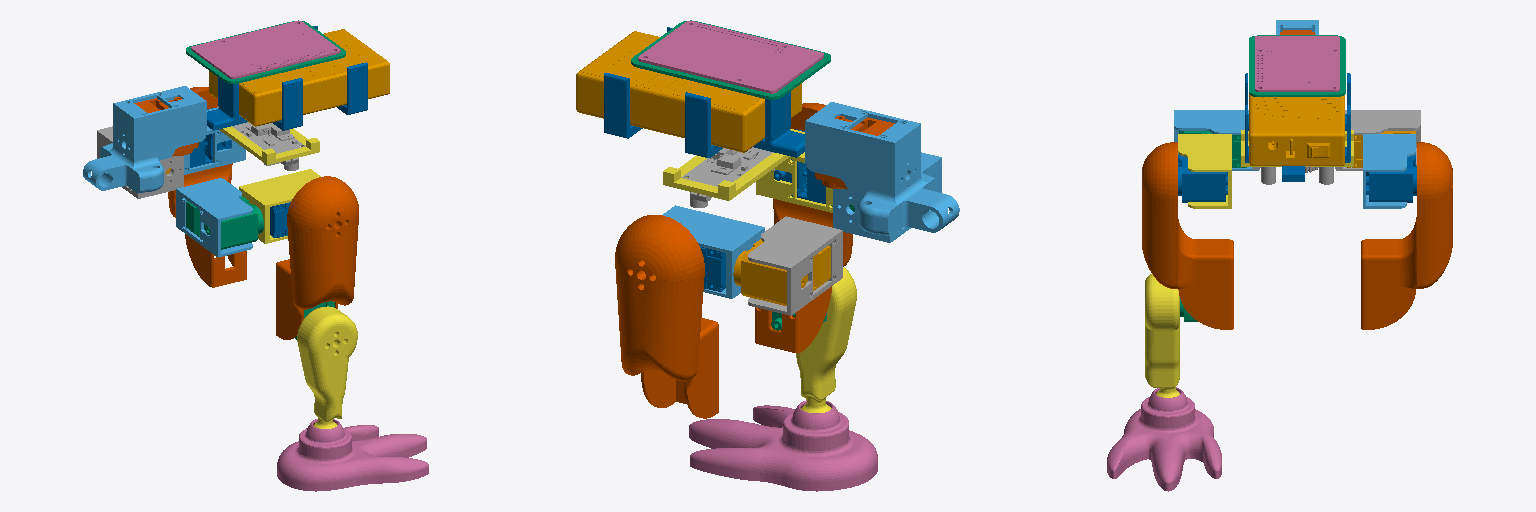
--- Facts derived from the render (not from the file) ---
3 views of the same robot in one strip: view 1: azimuth 30°, elevation 25°; view 2: azimuth 150°, elevation 25°; view 3: azimuth 270°, elevation 25° (orthographic).
Model jake with 25 links and 24 joints (8 continuous, 16 fixed), rooted at base_link, posed all joints at 0.
Links seen in each view (by area): view 1: thigh1, foot1Component181, jake_tail_STEP_v31Tail1Base1, battery_case_v141TalentCell_Battery_v21, calf1Main_Calf1, jake_RpiBoard_Fina_v81Raspberry_Pi_4_Model_B_v31PCB_RPi4ModelB1, battery_case_v141actual_case_lol1, hipmount11, thighMirror1, hipmount21, servo11Motor_w_Flywheel_Attached1, Jake_Power_Coverter_Mount_v41Power_Converter_v11 (+7 smaller); view 2: thighMirror1, foot1Component181, jake_tail_STEP_v31Tail1Base1, battery_case_v141TalentCell_Battery_v21, jake_RpiBoard_Fina_v81Raspberry_Pi_4_Model_B_v31PCB_RPi4ModelB1, battery_case_v141actual_case_lol1, hipmount1Mirror1, thigh1, calf1Main_Calf1, hipmount2Mirror1, servo1Mirror1Motor_w_Flywheel_Attached_21, Jake_Power_Coverter_Mount_v41Power_Converter_v11 (+7 smaller); view 3: thigh1, thighMirror1, foot1Component181, battery_case_v141TalentCell_Battery_v21, jake_RpiBoard_Fina_v81Raspberry_Pi_4_Model_B_v31PCB_RPi4ModelB1, calf1Main_Calf1, hipmount21, hipmount2Mirror1, hipmount1Mirror1, hipmount11, servo2Mirror1Motor_w_Flywheel_Attached_1_21, servo21Motor_w_Flywheel_Attached_11 (+3 smaller).
Boxes of the visible links, x1=… form: thigh1: x1=276, y1=176, x2=358, y2=339; foot1Component181: x1=277, y1=419, x2=428, y2=491; jake_tail_STEP_v31Tail1Base1: x1=83, y1=86, x2=206, y2=192; battery_case_v141TalentCell_Battery_v21: x1=209, y1=29, x2=389, y2=126; calf1Main_Calf1: x1=297, y1=306, x2=357, y2=428; jake_RpiBoard_Fina_v81Raspberry_Pi_4_Model_B_v31PCB_RPi4ModelB1: x1=191, y1=21, x2=340, y2=78; battery_case_v141actual_case_lol1: x1=207, y1=26, x2=367, y2=130; hipmount11: x1=176, y1=178, x2=252, y2=257; thighMirror1: x1=168, y1=87, x2=246, y2=287; hipmount21: x1=239, y1=169, x2=320, y2=243; servo11Motor_w_Flywheel_Attached1: x1=186, y1=196, x2=263, y2=249; Jake_Power_Coverter_Mount_v41Power_Converter_v11: x1=232, y1=122, x2=305, y2=170; thighMirror1: x1=615, y1=215, x2=718, y2=418; foot1Component181: x1=689, y1=400, x2=877, y2=491; jake_tail_STEP_v31Tail1Base1: x1=805, y1=102, x2=959, y2=235; battery_case_v141TalentCell_Battery_v21: x1=576, y1=31, x2=801, y2=152; jake_RpiBoard_Fina_v81Raspberry_Pi_4_Model_B_v31PCB_RPi4ModelB1: x1=638, y1=21, x2=823, y2=93; battery_case_v141actual_case_lol1: x1=604, y1=27, x2=804, y2=157; hipmount1Mirror1: x1=748, y1=216, x2=842, y2=315; thigh1: x1=755, y1=103, x2=852, y2=352; calf1Main_Calf1: x1=796, y1=267, x2=856, y2=412; hipmount2Mirror1: x1=663, y1=205, x2=764, y2=298; servo1Mirror1Motor_w_Flywheel_Attached_21: x1=733, y1=239, x2=830, y2=305; Jake_Power_Coverter_Mount_v41Power_Converter_v11: x1=681, y1=147, x2=774, y2=207; thigh1: x1=1142, y1=142, x2=1233, y2=329; thighMirror1: x1=1361, y1=142, x2=1452, y2=329; foot1Component181: x1=1107, y1=387, x2=1221, y2=491; battery_case_v141TalentCell_Battery_v21: x1=1249, y1=94, x2=1344, y2=165; jake_RpiBoard_Fina_v81Raspberry_Pi_4_Model_B_v31PCB_RPi4ModelB1: x1=1255, y1=36, x2=1339, y2=91; calf1Main_Calf1: x1=1145, y1=274, x2=1179, y2=397; hipmount21: x1=1178, y1=134, x2=1231, y2=208; hipmount2Mirror1: x1=1363, y1=134, x2=1415, y2=208; hipmount1Mirror1: x1=1336, y1=110, x2=1420, y2=170; hipmount11: x1=1174, y1=110, x2=1258, y2=170; servo2Mirror1Motor_w_Flywheel_Attached_1_21: x1=1366, y1=155, x2=1416, y2=202; servo21Motor_w_Flywheel_Attached_11: x1=1178, y1=154, x2=1227, y2=202.
Size in the robot's own frame: 0.2247 by 0.2278 by 0.276 metres.
21 mesh visuals loaded from 25 distinct referenced files (21 binary STL); not drawn: 4 (reference not matched to a file when rendering).

URDF robot description (jake):
<?xml version="1.0" ?>
<robot name="jake">

<material name="silver">
  <color rgba="0.700 0.700 0.700 1.000"/>
</material>

<link name="base_link">
  <inertial>
    <origin xyz="0.07366642744220055 3.4324931540878744e-08 0.07497454082711993" rpy="0 0 0"/>
    <mass value="0.0735175424772156"/>
    <inertia ixx="0.00022715298291462257" iyy="0.00035650467246695875" izz="0.00027330612180046226" ixy="2.139282183341953e-11" iyz="1.4540012846842918e-11" ixz="-0.00010753830886941747"/>
  </inertial>
  <visual>
    <origin xyz="0 0 0" rpy="0 0 0"/>
    <geometry>
      <mesh filename="meshes/base_link.stl" scale="0.001 0.001 0.001"/>
    </geometry>
    <material name="silver"/>
    <material/>
  </visual>
  <collision>
    <origin xyz="0 0 0" rpy="0 0 0"/>
    <geometry>
      <mesh filename="meshes/base_link.stl" scale="0.001 0.001 0.001"/>
    </geometry>
  </collision>
</link>

<link name="hipmount11">
  <inertial>
    <origin xyz="-0.010450877473847946 -0.020598854976074027 -0.006975051044249692" rpy="0 0 0"/>
    <mass value="0.002127030917238079"/>
    <inertia ixx="9.64808475540197e-07" iyy="5.00558554912034e-07" izz="9.430966968339194e-07" ixy="-1.0072694535571229e-07" iyz="4.059700887159884e-14" ixz="2.3205380691548698e-14"/>
  </inertial>
  <visual>
    <origin xyz="-0.02253 0.0254 -0.020945" rpy="0 0 0"/>
    <geometry>
      <mesh filename="meshes/hipmount11.stl" scale="0.001 0.001 0.001"/>
    </geometry>
    <material name="silver"/>
    <material/>
  </visual>
  <collision>
    <origin xyz="-0.02253 0.0254 -0.020945" rpy="0 0 0"/>
    <geometry>
      <mesh filename="meshes/hipmount11.stl" scale="0.001 0.001 0.001"/>
    </geometry>
  </collision>
</link>

<link name="servo11Motor_w_Flywheel_Attached1">
  <inertial>
    <origin xyz="-0.04553647829764142 -0.010497058076662617 -0.0001456577357472847" rpy="0 0 0"/>
    <mass value="0.05200108715490274"/>
    <inertia ixx="1.1411737965950517e-05" iyy="7.3256973563640795e-06" izz="1.3509763471800736e-05" ixy="4.391971279984005e-07" iyz="2.360253048642449e-11" ixz="1.749658177164408e-10"/>
  </inertial>
  <visual>
    <origin xyz="-0.062502 0.044282 -0.014116" rpy="0 0 0"/>
    <geometry>
      <mesh filename="meshes/servo11Motor_w_Flywheel_Attached1.stl" scale="0.001 0.001 0.001"/>
    </geometry>
    <material name="silver"/>
    <material/>
  </visual>
  <collision>
    <origin xyz="-0.062502 0.044282 -0.014116" rpy="0 0 0"/>
    <geometry>
      <mesh filename="meshes/servo11Motor_w_Flywheel_Attached1.stl" scale="0.001 0.001 0.001"/>
    </geometry>
  </collision>
</link>

<link name="hipmount21">
  <inertial>
    <origin xyz="0.020598863547502767 0.010451077473885108 1.0436543625841344e-09" rpy="0 0 0"/>
    <mass value="0.002127030917238079"/>
    <inertia ixx="5.005585549120615e-07" iyy="9.648084755402003e-07" izz="9.430966968339211e-07" ixy="-1.0072694535572203e-07" iyz="2.3205377726933383e-14" ixz="4.0597003154126446e-14"/>
  </inertial>
  <visual>
    <origin xyz="-0.035628 0.067677 -0.01397" rpy="0 0 0"/>
    <geometry>
      <mesh filename="meshes/hipmount21.stl" scale="0.001 0.001 0.001"/>
    </geometry>
    <material name="silver"/>
    <material/>
  </visual>
  <collision>
    <origin xyz="-0.035628 0.067677 -0.01397" rpy="0 0 0"/>
    <geometry>
      <mesh filename="meshes/hipmount21.stl" scale="0.001 0.001 0.001"/>
    </geometry>
  </collision>
</link>

<link name="servo21Motor_w_Flywheel_Attached_11">
  <inertial>
    <origin xyz="-0.012448933351908775 0.07796467829767864 0.0001456077351519574" rpy="0 0 0"/>
    <mass value="0.05200108715490274"/>
    <inertia ixx="7.325697356363954e-06" iyy="1.1411737965950599e-05" izz="1.3509763471800844e-05" ixy="4.3919712799833275e-07" iyz="1.7496581771305267e-10" ixz="2.3602530493200755e-11"/>
  </inertial>
  <visual>
    <origin xyz="-0.077456 0.140077 -0.013824" rpy="0 0 0"/>
    <geometry>
      <mesh filename="meshes/servo21Motor_w_Flywheel_Attached_11.stl" scale="0.001 0.001 0.001"/>
    </geometry>
    <material name="silver"/>
    <material/>
  </visual>
  <collision>
    <origin xyz="-0.077456 0.140077 -0.013824" rpy="0 0 0"/>
    <geometry>
      <mesh filename="meshes/servo21Motor_w_Flywheel_Attached_11.stl" scale="0.001 0.001 0.001"/>
    </geometry>
  </collision>
</link>

<link name="thigh1">
  <inertial>
    <origin xyz="0.0002239642103345485 -0.0039656170424636344 -0.02706053963576697" rpy="0 0 0"/>
    <mass value="0.015624350984100959"/>
    <inertia ixx="1.3839764164106519e-05" iyy="1.3943498199421182e-05" izz="4.5169682811754634e-06" ixy="-1.2569470561092514e-09" iyz="2.448121333010221e-06" ixz="1.1273443839689718e-07"/>
  </inertial>
  <visual>
    <origin xyz="-0.077905 0.080775 -0.01397" rpy="0 0 0"/>
    <geometry>
      <mesh filename="meshes/thigh1.stl" scale="0.001 0.001 0.001"/>
    </geometry>
    <material name="silver"/>
    <material/>
  </visual>
  <collision>
    <origin xyz="-0.077905 0.080775 -0.01397" rpy="0 0 0"/>
    <geometry>
      <mesh filename="meshes/thigh1.stl" scale="0.001 0.001 0.001"/>
    </geometry>
  </collision>
</link>

<link name="foot1Component181">
  <inertial>
    <origin xyz="0.011361275457841463 -0.0004856821062526051 -0.01795697983808972" rpy="0 0 0"/>
    <mass value="0.013961224525381573"/>
    <inertia ixx="4.510420510224239e-06" iyy="8.317584753180212e-06" izz="1.1637670568507565e-05" ixy="2.2788007857949411e-07" iyz="-1.5594201783255537e-08" ixz="4.293290906789483e-07"/>
  </inertial>
  <visual>
    <origin xyz="-0.078151 0.08501 0.148034" rpy="0 0 0"/>
    <geometry>
      <mesh filename="meshes/foot1Component181.stl" scale="0.001 0.001 0.001"/>
    </geometry>
    <material name="silver"/>
    <material/>
  </visual>
  <collision>
    <origin xyz="-0.078151 0.08501 0.148034" rpy="0 0 0"/>
    <geometry>
      <mesh filename="meshes/foot1Component181.stl" scale="0.001 0.001 0.001"/>
    </geometry>
  </collision>
</link>

<link name="hipmount1Mirror1">
  <inertial>
    <origin xyz="-0.010450877473847943 0.020598854976073833 -0.006975051044249675" rpy="0 0 0"/>
    <mass value="0.002127030917238081"/>
    <inertia ixx="9.648084755402063e-07" iyy="5.005585549116387e-07" izz="9.430966968335501e-07" ixy="1.0072694535571822e-07" iyz="-4.0597008659840604e-14" ixz="2.320537719753779e-14"/>
  </inertial>
  <visual>
    <origin xyz="-0.02253 -0.0254 -0.020945" rpy="0 0 0"/>
    <geometry>
      <mesh filename="meshes/hipmount1Mirror1.stl" scale="0.001 0.001 0.001"/>
    </geometry>
    <material name="silver"/>
    <material/>
  </visual>
  <collision>
    <origin xyz="-0.02253 -0.0254 -0.020945" rpy="0 0 0"/>
    <geometry>
      <mesh filename="meshes/hipmount1Mirror1.stl" scale="0.001 0.001 0.001"/>
    </geometry>
  </collision>
</link>

<link name="servo1Mirror1Motor_w_Flywheel_Attached_21">
  <inertial>
    <origin xyz="0.013263521702359112 0.010497058076662569 -0.02808565773574729" rpy="0 0 0"/>
    <mass value="0.05200108715490543"/>
    <inertia ixx="1.1411737965951954e-05" iyy="7.325697356364784e-06" izz="1.3509763471802172e-05" ixy="-4.391971279984073e-07" iyz="-2.3602530493200755e-11" ixz="1.7496581775032212e-10"/>
  </inertial>
  <visual>
    <origin xyz="-0.003702 -0.044282 -0.042056" rpy="0 0 0"/>
    <geometry>
      <mesh filename="meshes/servo1Mirror1Motor_w_Flywheel_Attached_21.stl" scale="0.001 0.001 0.001"/>
    </geometry>
    <material name="silver"/>
    <material/>
  </visual>
  <collision>
    <origin xyz="-0.003702 -0.044282 -0.042056" rpy="0 0 0"/>
    <geometry>
      <mesh filename="meshes/servo1Mirror1Motor_w_Flywheel_Attached_21.stl" scale="0.001 0.001 0.001"/>
    </geometry>
  </collision>
</link>

<link name="hipmount2Mirror1">
  <inertial>
    <origin xyz="0.020598863547502608 -0.01045107747388515 1.0436543591146874e-09" rpy="0 0 0"/>
    <mass value="0.002127030917238081"/>
    <inertia ixx="5.005585549116659e-07" iyy="9.648084755402291e-07" izz="9.430966968335298e-07" ixy="1.0072694535572966e-07" iyz="-2.320537857396633e-14" ixz="4.059700018951113e-14"/>
  </inertial>
  <visual>
    <origin xyz="-0.035628 -0.067677 -0.01397" rpy="0 0 0"/>
    <geometry>
      <mesh filename="meshes/hipmount2Mirror1.stl" scale="0.001 0.001 0.001"/>
    </geometry>
    <material name="silver"/>
    <material/>
  </visual>
  <collision>
    <origin xyz="-0.035628 -0.067677 -0.01397" rpy="0 0 0"/>
    <geometry>
      <mesh filename="meshes/hipmount2Mirror1.stl" scale="0.001 0.001 0.001"/>
    </geometry>
  </collision>
</link>

<link name="servo31Motor_w_Flywheel_Attached_1_11">
  <inertial>
    <origin xyz="0.06100154298729926 -0.018782200273749973 0.0027089283078350623" rpy="0 0 0"/>
    <mass value="0.05200108715490274"/>
    <inertia ixx="1.3509763471800682e-05" iyy="1.1411737965950517e-05" izz="7.3256973563640354e-06" ixy="1.7496581765884256e-10" iyz="-4.3919712799841406e-07" ixz="-2.3602530628726026e-11"/>
  </inertial>
  <visual>
    <origin xyz="-0.017036 0.04237 0.064068" rpy="0 0 0"/>
    <geometry>
      <mesh filename="meshes/servo31Motor_w_Flywheel_Attached_1_11.stl" scale="0.001 0.001 0.001"/>
    </geometry>
    <material name="silver"/>
    <material/>
  </visual>
  <collision>
    <origin xyz="-0.017036 0.04237 0.064068" rpy="0 0 0"/>
    <geometry>
      <mesh filename="meshes/servo31Motor_w_Flywheel_Attached_1_11.stl" scale="0.001 0.001 0.001"/>
    </geometry>
  </collision>
</link>

<link name="calf1Main_Calf1">
  <inertial>
    <origin xyz="-0.00044887238441694566 -0.008451510113759872 -0.02178833109571708" rpy="0 0 0"/>
    <mass value="0.008433806361749868"/>
    <inertia ixx="6.334466357061025e-06" iyy="6.565083135876671e-06" izz="8.797591897749866e-07" ixy="-2.1715990777658326e-09" iyz="2.1916108904953548e-07" ixz="2.5548867809316615e-08"/>
  </inertial>
  <visual>
    <origin xyz="-0.078038 0.079815 0.074257" rpy="0 0 0"/>
    <geometry>
      <mesh filename="meshes/calf1Main_Calf1.stl" scale="0.001 0.001 0.001"/>
    </geometry>
    <material name="silver"/>
    <material/>
  </visual>
  <collision>
    <origin xyz="-0.078038 0.079815 0.074257" rpy="0 0 0"/>
    <geometry>
      <mesh filename="meshes/calf1Main_Calf1.stl" scale="0.001 0.001 0.001"/>
    </geometry>
  </collision>
</link>

<link name="servo2Mirror1Motor_w_Flywheel_Attached_1_21">
  <inertial>
    <origin xyz="-0.012448933351908859 0.04569132170232183 0.02808560773515196" rpy="0 0 0"/>
    <mass value="0.05200108715490543"/>
    <inertia ixx="7.32569735636474e-06" iyy="1.14117379659519e-05" izz="1.350976347180247e-05" ixy="-4.3919712799838696e-07" iyz="-1.7496581771982893e-10" ixz="2.3602530493200755e-11"/>
  </inertial>
  <visual>
    <origin xyz="-0.077456 -0.016421 0.014116" rpy="0 0 0"/>
    <geometry>
      <mesh filename="meshes/servo2Mirror1Motor_w_Flywheel_Attached_1_21.stl" scale="0.001 0.001 0.001"/>
    </geometry>
    <material name="silver"/>
    <material/>
  </visual>
  <collision>
    <origin xyz="-0.077456 -0.016421 0.014116" rpy="0 0 0"/>
    <geometry>
      <mesh filename="meshes/servo2Mirror1Motor_w_Flywheel_Attached_1_21.stl" scale="0.001 0.001 0.001"/>
    </geometry>
  </collision>
</link>

<link name="thighMirror1">
  <inertial>
    <origin xyz="0.00022396445139864773 0.003965592661951595 -0.027060572596788894" rpy="0 0 0"/>
    <mass value="0.015624332312955288"/>
    <inertia ixx="1.383974261506272e-05" iyy="1.3943482227764988e-05" izz="4.516960115786173e-06" ixy="1.2566790780053514e-09" iyz="-2.4481159037913195e-06" ixz="1.1273430171928472e-07"/>
  </inertial>
  <visual>
    <origin xyz="-0.077905 -0.080775 -0.01397" rpy="0 0 0"/>
    <geometry>
      <mesh filename="meshes/thighMirror1.stl" scale="0.001 0.001 0.001"/>
    </geometry>
    <material name="silver"/>
    <material/>
  </visual>
  <collision>
    <origin xyz="-0.077905 -0.080775 -0.01397" rpy="0 0 0"/>
    <geometry>
      <mesh filename="meshes/thighMirror1.stl" scale="0.001 0.001 0.001"/>
    </geometry>
  </collision>
</link>

<link name="servo3Mirror1Motor_w_Flywheel_Attached_1_1_11">
  <inertial>
    <origin xyz="-4.5701270064146815e-07 0.0002842002737504304 -0.02210247169216488" rpy="0 0 0"/>
    <mass value="0.05200108715490543"/>
    <inertia ixx="1.3509763471802091e-05" iyy="1.1411737965951927e-05" izz="7.325697356364686e-06" ixy="-1.7496581765884256e-10" iyz="4.3919712799838696e-07" ixz="-2.3602530574515918e-11"/>
  </inertial>
  <visual>
    <origin xyz="-0.078038 -0.060868 0.03598" rpy="0 0 0"/>
    <geometry>
      <mesh filename="meshes/servo3Mirror1Motor_w_Flywheel_Attached_1_1_11.stl" scale="0.001 0.001 0.001"/>
    </geometry>
    <material name="silver"/>
    <material/>
  </visual>
  <collision>
    <origin xyz="-0.078038 -0.060868 0.03598" rpy="0 0 0"/>
    <geometry>
      <mesh filename="meshes/servo3Mirror1Motor_w_Flywheel_Attached_1_1_11.stl" scale="0.001 0.001 0.001"/>
    </geometry>
  </collision>
</link>

<link name="calfMirror1Main_Calf_11">
  <inertial>
    <origin xyz="-0.00044887001728799447 0.008451468083334412 -0.02178869407419469" rpy="0 0 0"/>
    <mass value="0.008433842168596982"/>
    <inertia ixx="6.334507938049352e-06" iyy="6.565125650764874e-06" izz="8.797678338157784e-07" ixy="2.171806058716495e-09" iyz="-2.1915576099561945e-07" ixz="2.5548906498989825e-08"/>
  </inertial>
  <visual>
    <origin xyz="-0.078038 -0.079815 0.07098" rpy="0 0 0"/>
    <geometry>
      <mesh filename="meshes/calfMirror1Main_Calf_11.stl" scale="0.001 0.001 0.001"/>
    </geometry>
    <material name="silver"/>
    <material/>
  </visual>
  <collision>
    <origin xyz="-0.078038 -0.079815 0.07098" rpy="0 0 0"/>
    <geometry>
      <mesh filename="meshes/calfMirror1Main_Calf_11.stl" scale="0.001 0.001 0.001"/>
    </geometry>
  </collision>
</link>

<link name="footMirror1Component231">
  <inertial>
    <origin xyz="0.01136125225530836 0.00048565544201280286 -0.017956407039870143" rpy="0 0 0"/>
    <mass value="0.013961190877406347"/>
    <inertia ixx="4.510400035418578e-06" iyy="8.317561693790257e-06" izz="1.1637642303617652e-05" ixy="-2.2787528977984757e-07" iyz="1.559759098832339e-08" ixz="4.2933288601587714e-07"/>
  </inertial>
  <visual>
    <origin xyz="-0.078151 -0.08501 0.144758" rpy="0 0 0"/>
    <geometry>
      <mesh filename="meshes/footMirror1Component231.stl" scale="0.001 0.001 0.001"/>
    </geometry>
    <material name="silver"/>
    <material/>
  </visual>
  <collision>
    <origin xyz="-0.078151 -0.08501 0.144758" rpy="0 0 0"/>
    <geometry>
      <mesh filename="meshes/footMirror1Component231.stl" scale="0.001 0.001 0.001"/>
    </geometry>
  </collision>
</link>

<link name="jake_tail_STEP_v31Tail1Base1">
  <inertial>
    <origin xyz="-0.0028634109138929026 0.021824857801826292 0.017611438876835576" rpy="0 0 0"/>
    <mass value="0.006025637969283059"/>
    <inertia ixx="2.494837719479819e-06" iyy="2.9567609529643606e-06" izz="2.5336929275497234e-06" ixy="-5.124145240902433e-12" iyz="4.634635232148862e-11" ixz="-7.653164338532848e-07"/>
  </inertial>
  <visual>
    <origin xyz="0.01524 0.021819 -0.03048" rpy="0 0 0"/>
    <geometry>
      <mesh filename="meshes/jake_tail_STEP_v31Tail1Base1.stl" scale="0.001 0.001 0.001"/>
    </geometry>
    <material name="silver"/>
    <material/>
  </visual>
  <collision>
    <origin xyz="0.01524 0.021819 -0.03048" rpy="0 0 0"/>
    <geometry>
      <mesh filename="meshes/jake_tail_STEP_v31Tail1Base1.stl" scale="0.001 0.001 0.001"/>
    </geometry>
  </collision>
</link>

<link name="jake_RpiBoard_Fina_v81board1">
  <inertial>
    <origin xyz="-0.03909564452415272 -0.024359927842207 0.0008999999999999564" rpy="0 0 0"/>
    <mass value="0.0019394922620199428"/>
    <inertia ixx="6.423355849237124e-07" iyy="1.3724438621632714e-06" izz="2.0137321212654904e-06" ixy="-2.0554887126757417e-09" iyz="-8.768114493062093e-22" ixz="0.0"/>
  </inertial>
  <visual>
    <origin xyz="-0.120523 -0.024498 -0.09779" rpy="0 0 0"/>
    <geometry>
      <mesh filename="meshes/jake_RpiBoard_Fina_v81board1.stl" scale="0.001 0.001 0.001"/>
    </geometry>
    <material name="silver"/>
    <material/>
  </visual>
  <collision>
    <origin xyz="-0.120523 -0.024498 -0.09779" rpy="0 0 0"/>
    <geometry>
      <mesh filename="meshes/jake_RpiBoard_Fina_v81board1.stl" scale="0.001 0.001 0.001"/>
    </geometry>
  </collision>
</link>

<link name="Jake_Power_Coverter_Mount_v41Component1081">
  <inertial>
    <origin xyz="0.10970389090909091 -0.017229999999999995 0.08723467024128687" rpy="0 0 0"/>
    <mass value="0.0009712920000000003"/>
    <inertia ixx="7.100202563136745e-07" iyy="2.3900548131367455e-07" izz="9.423444169999999e-07" ixy="1.6212740006039342e-22" iyz="-1.6543612251060553e-24" ixz="0.0"/>
  </inertial>
  <visual>
    <origin xyz="0.02794 -0.01748 0.049804" rpy="0 0 0"/>
    <geometry>
      <mesh filename="meshes/Jake_Power_Coverter_Mount_v41Component1081.stl" scale="0.001 0.001 0.001"/>
    </geometry>
    <material name="silver"/>
    <material/>
  </visual>
  <collision>
    <origin xyz="0.02794 -0.01748 0.049804" rpy="0 0 0"/>
    <geometry>
      <mesh filename="meshes/Jake_Power_Coverter_Mount_v41Component1081.stl" scale="0.001 0.001 0.001"/>
    </geometry>
  </collision>
</link>

<link name="battery_case_v141actual_case_lol1">
  <inertial>
    <origin xyz="0.06307682179410651 0.0002588655651982208 0.006953933283610089" rpy="0 0 0"/>
    <mass value="0.0051109196621821115"/>
    <inertia ixx="2.162276597790557e-06" iyy="6.5273401464139246e-06" izz="7.887364728359264e-06" ixy="2.6968003831336055e-08" iyz="-3.104883297386938e-08" ixz="2.98422021036982e-07"/>
  </inertial>
  <visual>
    <origin xyz="-0.03523 -0.0 -0.05588" rpy="0 0 0"/>
    <geometry>
      <mesh filename="meshes/battery_case_v141actual_case_lol1.stl" scale="0.001 0.001 0.001"/>
    </geometry>
    <material name="silver"/>
    <material/>
  </visual>
  <collision>
    <origin xyz="-0.03523 -0.0 -0.05588" rpy="0 0 0"/>
    <geometry>
      <mesh filename="meshes/battery_case_v141actual_case_lol1.stl" scale="0.001 0.001 0.001"/>
    </geometry>
  </collision>
</link>

<link name="jake_tail_STEP_v31Jake_Servo_with_Flywheel_v31Motor_w_Flywheel_Attached_31">
  <inertial>
    <origin xyz="0.09764364474378343 0.021659523977101358 -0.03076394170218196" rpy="0 0 0"/>
    <mass value="0.05200108715424498"/>
    <inertia ixx="7.3256973562342564e-06" iyy="1.3509763471514371e-05" izz="1.1411737965790372e-05" ixy="-2.36025032202081e-11" iyz="-1.7496585470946988e-10" ixz="4.3919712789236723e-07"/>
  </inertial>
  <visual>
    <origin xyz="0.096072 0.021654 -0.09187" rpy="0 0 0"/>
    <geometry>
      <mesh filename="meshes/jake_tail_STEP_v31Jake_Servo_with_Flywheel_v31Motor_w_Flywheel_Attached_31.stl" scale="0.001 0.001 0.001"/>
    </geometry>
    <material name="silver"/>
    <material/>
  </visual>
  <collision>
    <origin xyz="0.096072 0.021654 -0.09187" rpy="0 0 0"/>
    <geometry>
      <mesh filename="meshes/jake_tail_STEP_v31Jake_Servo_with_Flywheel_v31Motor_w_Flywheel_Attached_31.stl" scale="0.001 0.001 0.001"/>
    </geometry>
  </collision>
</link>

<link name="jake_RpiBoard_Fina_v81Raspberry_Pi_4_Model_B_v31PCB_RPi4ModelB1">
  <inertial>
    <origin xyz="-0.00012078223333916727 0.00017289459791625786 0.0008000000000000923" rpy="0 0 0"/>
    <mass value="0.0138863396732554"/>
    <inertia ixx="3.565290598003828e-06" iyy="8.339737472120781e-06" izz="1.1899106026451808e-05" ixy="-1.823302726790508e-08" iyz="-2.1440521477374477e-21" ixz="0.0"/>
  </inertial>
  <visual>
    <origin xyz="-0.081523 2e-06 -0.09959" rpy="0 0 0"/>
    <geometry>
      <mesh filename="meshes/jake_RpiBoard_Fina_v81Raspberry_Pi_4_Model_B_v31PCB_RPi4ModelB1.stl" scale="0.001 0.001 0.001"/>
    </geometry>
    <material name="silver"/>
    <material/>
  </visual>
  <collision>
    <origin xyz="-0.081523 2e-06 -0.09959" rpy="0 0 0"/>
    <geometry>
      <mesh filename="meshes/jake_RpiBoard_Fina_v81Raspberry_Pi_4_Model_B_v31PCB_RPi4ModelB1.stl" scale="0.001 0.001 0.001"/>
    </geometry>
  </collision>
</link>

<link name="Jake_Power_Coverter_Mount_v41Power_Converter_v11">
  <inertial>
    <origin xyz="0.010157872286075176 0.06288136529035002 -0.11052142350784536" rpy="0 0 0"/>
    <mass value="0.03542582746378581"/>
    <inertia ixx="5.7853326550539e-06" iyy="2.2881734396583897e-06" izz="6.432048791215163e-06" ixy="4.519653592846906e-08" iyz="7.321701690091683e-08" ixz="9.609819226387027e-08"/>
  </inertial>
  <visual>
    <origin xyz="-0.073573 0.061514 -0.143517" rpy="0 0 0"/>
    <geometry>
      <mesh filename="meshes/Jake_Power_Coverter_Mount_v41Power_Converter_v11.stl" scale="0.001 0.001 0.001"/>
    </geometry>
    <material name="silver"/>
    <material/>
  </visual>
  <collision>
    <origin xyz="-0.073573 0.061514 -0.143517" rpy="0 0 0"/>
    <geometry>
      <mesh filename="meshes/Jake_Power_Coverter_Mount_v41Power_Converter_v11.stl" scale="0.001 0.001 0.001"/>
    </geometry>
  </collision>
</link>

<link name="battery_case_v141TalentCell_Battery_v21">
  <inertial>
    <origin xyz="0.13053001766422823 -0.025127530314852983 -0.15183761630427373" rpy="0 0 0"/>
    <mass value="0.3805639551859371"/>
    <inertia ixx="0.00014360637975661603" iyy="0.0003636561935676562" izz="0.00047085041746723014" ixy="-1.7654085028514195e-06" iyz="-8.859257534293076e-08" ixz="3.946808970183707e-07"/>
  </inertial>
  <visual>
    <origin xyz="0.023438 -0.025222 -0.225765" rpy="0 0 0"/>
    <geometry>
      <mesh filename="meshes/battery_case_v141TalentCell_Battery_v21.stl" scale="0.001 0.001 0.001"/>
    </geometry>
    <material name="silver"/>
    <material/>
  </visual>
  <collision>
    <origin xyz="0.023438 -0.025222 -0.225765" rpy="0 0 0"/>
    <geometry>
      <mesh filename="meshes/battery_case_v141TalentCell_Battery_v21.stl" scale="0.001 0.001 0.001"/>
    </geometry>
  </collision>
</link>

<joint name="Rigid_1" type="fixed">
  <origin xyz="0.02253 -0.0254 0.020945" rpy="0 0 0"/>
  <parent link="base_link"/>
  <child link="hipmount11"/>
</joint>

<joint name="Rigid_2" type="fixed">
  <origin xyz="0.039972 -0.018882 -0.006829" rpy="0 0 0"/>
  <parent link="hipmount11"/>
  <child link="servo11Motor_w_Flywheel_Attached1"/>
</joint>

<joint name="Revolute_3" type="continuous">
  <origin xyz="-0.026874 -0.023395 -0.000146" rpy="0 0 0"/>
  <parent link="servo11Motor_w_Flywheel_Attached1"/>
  <child link="hipmount21"/>
  <axis xyz="1.0 -0.0 -0.0"/>
</joint>
<transmission name="Revolute_3_tran">
  <type>transmission_interface/SimpleTransmission</type>
  <joint name="Revolute_3">
    <hardwareInterface>PositionJointInterface</hardwareInterface>
  </joint>
  <actuator name="Revolute_3_actr">
    <hardwareInterface>PositionJointInterface</hardwareInterface>
    <mechanicalReduction>1</mechanicalReduction>
  </actuator>
</transmission>

<joint name="Rigid_4" type="fixed">
  <origin xyz="0.041828 -0.0724 -0.000146" rpy="0 0 0"/>
  <parent link="hipmount21"/>
  <child link="servo21Motor_w_Flywheel_Attached_11"/>
</joint>

<joint name="Revolute_5" type="continuous">
  <origin xyz="0.000449 0.059302 0.000146" rpy="0 0 0"/>
  <parent link="servo21Motor_w_Flywheel_Attached_11"/>
  <child link="thigh1"/>
  <axis xyz="0.0 -1.0 -0.0"/>
</joint>
<transmission name="Revolute_5_tran">
  <type>transmission_interface/SimpleTransmission</type>
  <joint name="Revolute_5">
    <hardwareInterface>PositionJointInterface</hardwareInterface>
  </joint>
  <actuator name="Revolute_5_actr">
    <hardwareInterface>PositionJointInterface</hardwareInterface>
    <mechanicalReduction>1</mechanicalReduction>
  </actuator>
</transmission>

<joint name="Revolute_9" type="continuous">
  <origin xyz="0.000113 -0.005195 -0.073777" rpy="0 0 0"/>
  <parent link="calf1Main_Calf1"/>
  <child link="foot1Component181"/>
  <axis xyz="0.0 1.0 -0.0"/>
</joint>
<transmission name="Revolute_9_tran">
  <type>transmission_interface/SimpleTransmission</type>
  <joint name="Revolute_9">
    <hardwareInterface>PositionJointInterface</hardwareInterface>
  </joint>
  <actuator name="Revolute_9_actr">
    <hardwareInterface>PositionJointInterface</hardwareInterface>
    <mechanicalReduction>1</mechanicalReduction>
  </actuator>
</transmission>

<joint name="Rigid_10" type="fixed">
  <origin xyz="0.02253 0.0254 0.020945" rpy="0 0 0"/>
  <parent link="base_link"/>
  <child link="hipmount1Mirror1"/>
</joint>

<joint name="Rigid_11" type="fixed">
  <origin xyz="-0.018828 0.018882 0.021111" rpy="0 0 0"/>
  <parent link="hipmount1Mirror1"/>
  <child link="servo1Mirror1Motor_w_Flywheel_Attached_21"/>
</joint>

<joint name="Revolute_12" type="continuous">
  <origin xyz="0.031926 0.023395 -0.028086" rpy="0 0 0"/>
  <parent link="servo1Mirror1Motor_w_Flywheel_Attached_21"/>
  <child link="hipmount2Mirror1"/>
  <axis xyz="-1.0 -0.0 -0.0"/>
</joint>
<transmission name="Revolute_12_tran">
  <type>transmission_interface/SimpleTransmission</type>
  <joint name="Revolute_12">
    <hardwareInterface>PositionJointInterface</hardwareInterface>
  </joint>
  <actuator name="Revolute_12_actr">
    <hardwareInterface>PositionJointInterface</hardwareInterface>
    <mechanicalReduction>1</mechanicalReduction>
  </actuator>
</transmission>

<joint name="Rigid_13" type="fixed">
  <origin xyz="-0.060869 0.038405 -0.078038" rpy="0 0 0"/>
  <parent link="thigh1"/>
  <child link="servo31Motor_w_Flywheel_Attached_1_11"/>
</joint>

<joint name="Revolute_14" type="continuous">
  <origin xyz="0.061002 -0.037445 -0.010189" rpy="0 0 0"/>
  <parent link="servo31Motor_w_Flywheel_Attached_1_11"/>
  <child link="calf1Main_Calf1"/>
  <axis xyz="-0.0 -1.0 0.0"/>
</joint>
<transmission name="Revolute_14_tran">
  <type>transmission_interface/SimpleTransmission</type>
  <joint name="Revolute_14">
    <hardwareInterface>PositionJointInterface</hardwareInterface>
  </joint>
  <actuator name="Revolute_14_actr">
    <hardwareInterface>PositionJointInterface</hardwareInterface>
    <mechanicalReduction>1</mechanicalReduction>
  </actuator>
</transmission>

<joint name="Rigid_15" type="fixed">
  <origin xyz="0.041828 -0.051256 -0.028086" rpy="0 0 0"/>
  <parent link="hipmount2Mirror1"/>
  <child link="servo2Mirror1Motor_w_Flywheel_Attached_1_21"/>
</joint>

<joint name="Revolute_16" type="continuous">
  <origin xyz="0.000449 0.064354 0.028086" rpy="0 0 0"/>
  <parent link="servo2Mirror1Motor_w_Flywheel_Attached_1_21"/>
  <child link="thighMirror1"/>
  <axis xyz="-0.0 -1.0 -0.0"/>
</joint>
<transmission name="Revolute_16_tran">
  <type>transmission_interface/SimpleTransmission</type>
  <joint name="Revolute_16">
    <hardwareInterface>PositionJointInterface</hardwareInterface>
  </joint>
  <actuator name="Revolute_16_actr">
    <hardwareInterface>PositionJointInterface</hardwareInterface>
    <mechanicalReduction>1</mechanicalReduction>
  </actuator>
</transmission>

<joint name="Rigid_17" type="fixed">
  <origin xyz="0.000133 -0.019907 -0.04995" rpy="0 0 0"/>
  <parent link="thighMirror1"/>
  <child link="servo3Mirror1Motor_w_Flywheel_Attached_1_1_11"/>
</joint>

<joint name="Revolute_18" type="continuous">
  <origin xyz="0.0 0.018947 -0.035" rpy="0 0 0"/>
  <parent link="servo3Mirror1Motor_w_Flywheel_Attached_1_1_11"/>
  <child link="calfMirror1Main_Calf_11"/>
  <axis xyz="0.0 -1.0 -0.0"/>
</joint>
<transmission name="Revolute_18_tran">
  <type>transmission_interface/SimpleTransmission</type>
  <joint name="Revolute_18">
    <hardwareInterface>PositionJointInterface</hardwareInterface>
  </joint>
  <actuator name="Revolute_18_actr">
    <hardwareInterface>PositionJointInterface</hardwareInterface>
    <mechanicalReduction>1</mechanicalReduction>
  </actuator>
</transmission>

<joint name="Revolute_19" type="continuous">
  <origin xyz="0.000113 0.005195 -0.073778" rpy="0 0 0"/>
  <parent link="calfMirror1Main_Calf_11"/>
  <child link="footMirror1Component231"/>
  <axis xyz="0.0 -1.0 -0.0"/>
</joint>
<transmission name="Revolute_19_tran">
  <type>transmission_interface/SimpleTransmission</type>
  <joint name="Revolute_19">
    <hardwareInterface>PositionJointInterface</hardwareInterface>
  </joint>
  <actuator name="Revolute_19_actr">
    <hardwareInterface>PositionJointInterface</hardwareInterface>
    <mechanicalReduction>1</mechanicalReduction>
  </actuator>
</transmission>

<joint name="Rigid_20" type="fixed">
  <origin xyz="-0.01524 -0.021819 0.03048" rpy="0 0 0"/>
  <parent link="base_link"/>
  <child link="jake_tail_STEP_v31Tail1Base1"/>
</joint>

<joint name="Rigid_21" type="fixed">
  <origin xyz="0.120523 0.024498 0.09779" rpy="0 0 0"/>
  <parent link="base_link"/>
  <child link="jake_RpiBoard_Fina_v81board1"/>
</joint>

<joint name="Rigid_23" type="fixed">
  <origin xyz="-0.02794 0.01748 -0.049804" rpy="0 0 0"/>
  <parent link="base_link"/>
  <child link="Jake_Power_Coverter_Mount_v41Component1081"/>
</joint>

<joint name="Rigid_24" type="fixed">
  <origin xyz="0.03523 0.0 0.05588" rpy="0 0 0"/>
  <parent link="base_link"/>
  <child link="battery_case_v141actual_case_lol1"/>
</joint>

<joint name="jake_tail_STEP_v31_Rigid 1" type="fixed">
  <origin xyz="-0.080832 0.000165 0.06139" rpy="0 0 0"/>
  <parent link="jake_tail_STEP_v31Tail1Base1"/>
  <child link="jake_tail_STEP_v31Jake_Servo_with_Flywheel_v31Motor_w_Flywheel_Attached_31"/>
</joint>

<joint name="jake_RpiBoard_Fina_v81_Rigid 3" type="fixed">
  <origin xyz="-0.039 -0.0245 0.0018" rpy="0 0 0"/>
  <parent link="jake_RpiBoard_Fina_v81board1"/>
  <child link="jake_RpiBoard_Fina_v81Raspberry_Pi_4_Model_B_v31PCB_RPi4ModelB1"/>
</joint>

<joint name="Jake_Power_Coverter_Mount_v41_Rigid 2" type="fixed">
  <origin xyz="0.101513 -0.078994 0.193321" rpy="0 0 0"/>
  <parent link="Jake_Power_Coverter_Mount_v41Component1081"/>
  <child link="Jake_Power_Coverter_Mount_v41Power_Converter_v11"/>
</joint>

<joint name="battery_case_v141_Rigid 2" type="fixed">
  <origin xyz="-0.058668 0.025222 0.169885" rpy="0 0 0"/>
  <parent link="battery_case_v141actual_case_lol1"/>
  <child link="battery_case_v141TalentCell_Battery_v21"/>
</joint>

</robot>
